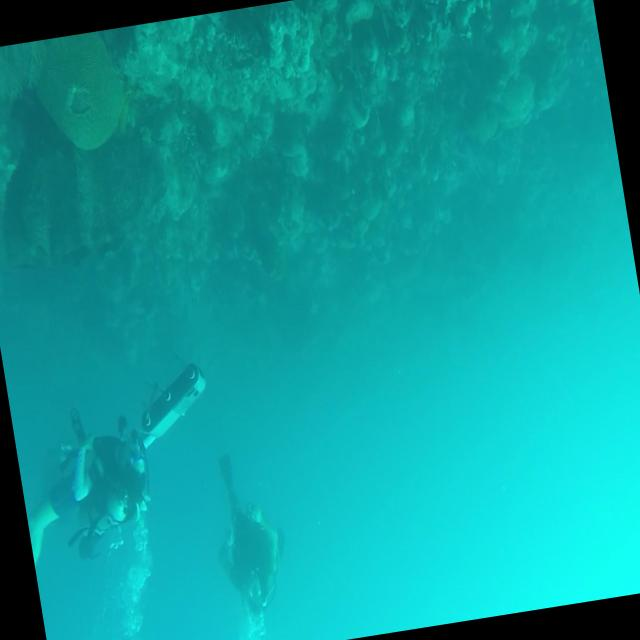human: (11, 399, 162, 573), (204, 448, 298, 634)
